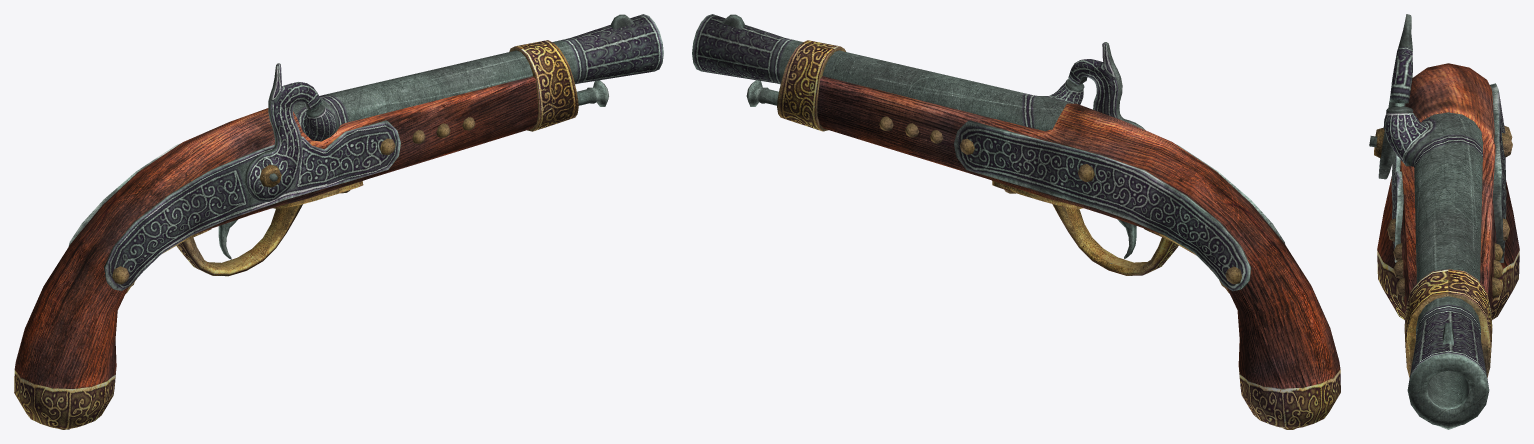
Rendered from Postal.fbx.
3 views of the same model, side by side, from view 1: azimuth 30°, elevation 25°; view 2: azimuth 150°, elevation 25°; view 3: azimuth 270°, elevation 25° (orthographic). The views are drawn at different scales.
Visible parts, largest first — view 1: Pirate_pistol; view 2: Pirate_pistol; view 3: Pirate_pistol.
Part boxes in pixels (bbox=[...]): Pirate_pistol: bbox=[14, 14, 663, 429]; Pirate_pistol: bbox=[692, 14, 1340, 429]; Pirate_pistol: bbox=[1369, 14, 1519, 429].
Bounding box in the file's own units: 52.23 × 25.91 × 7.8.
1 material, 1 textured.
